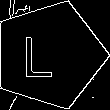L_N: (33, 30, 65, 80)
